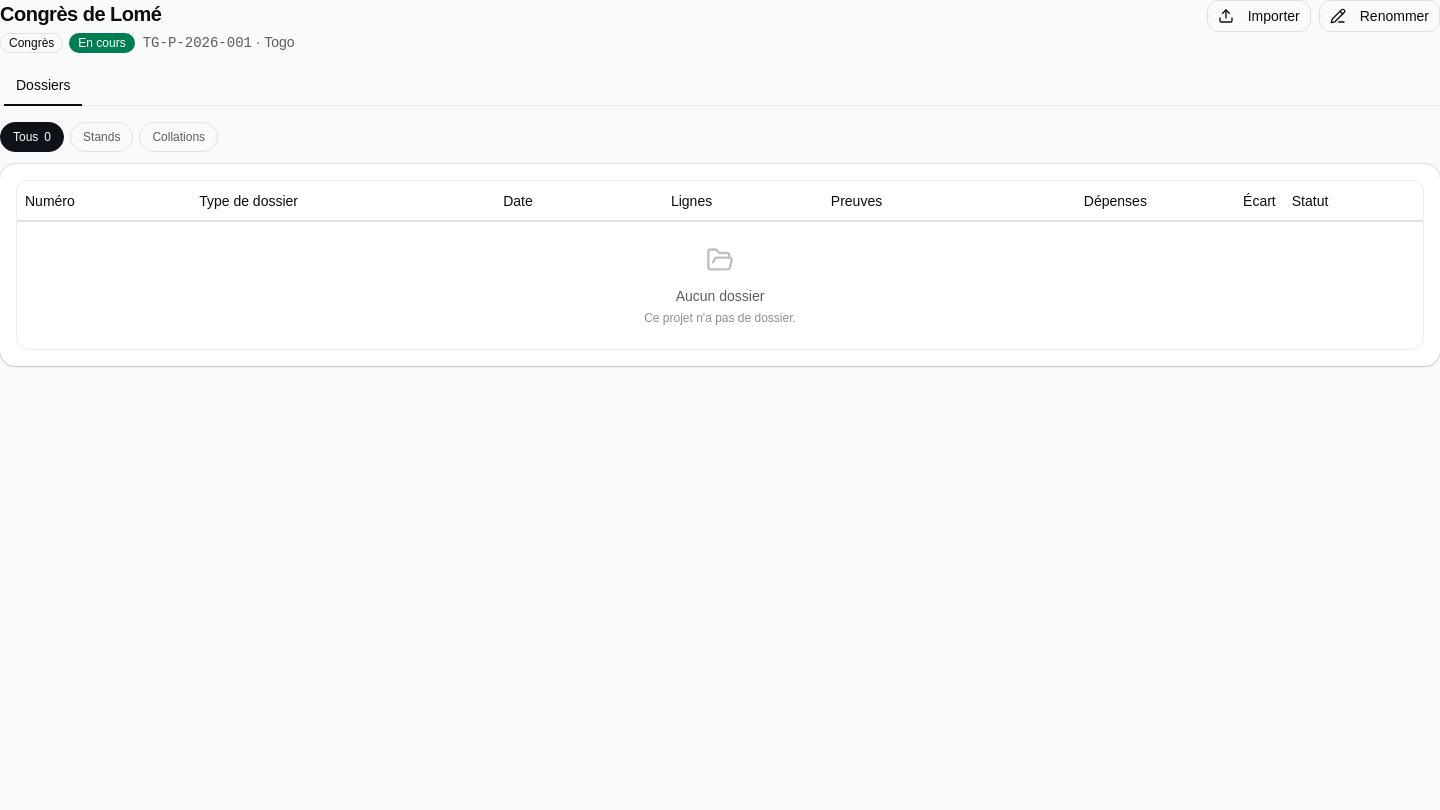
Renommer le projet, côté pays › exige un motif, puis affiche le nouveau titre
The width and height of the screenshot is (1440, 810).
Click the button "Renommer" at (1379, 16), box [1319, 0, 1439, 32]
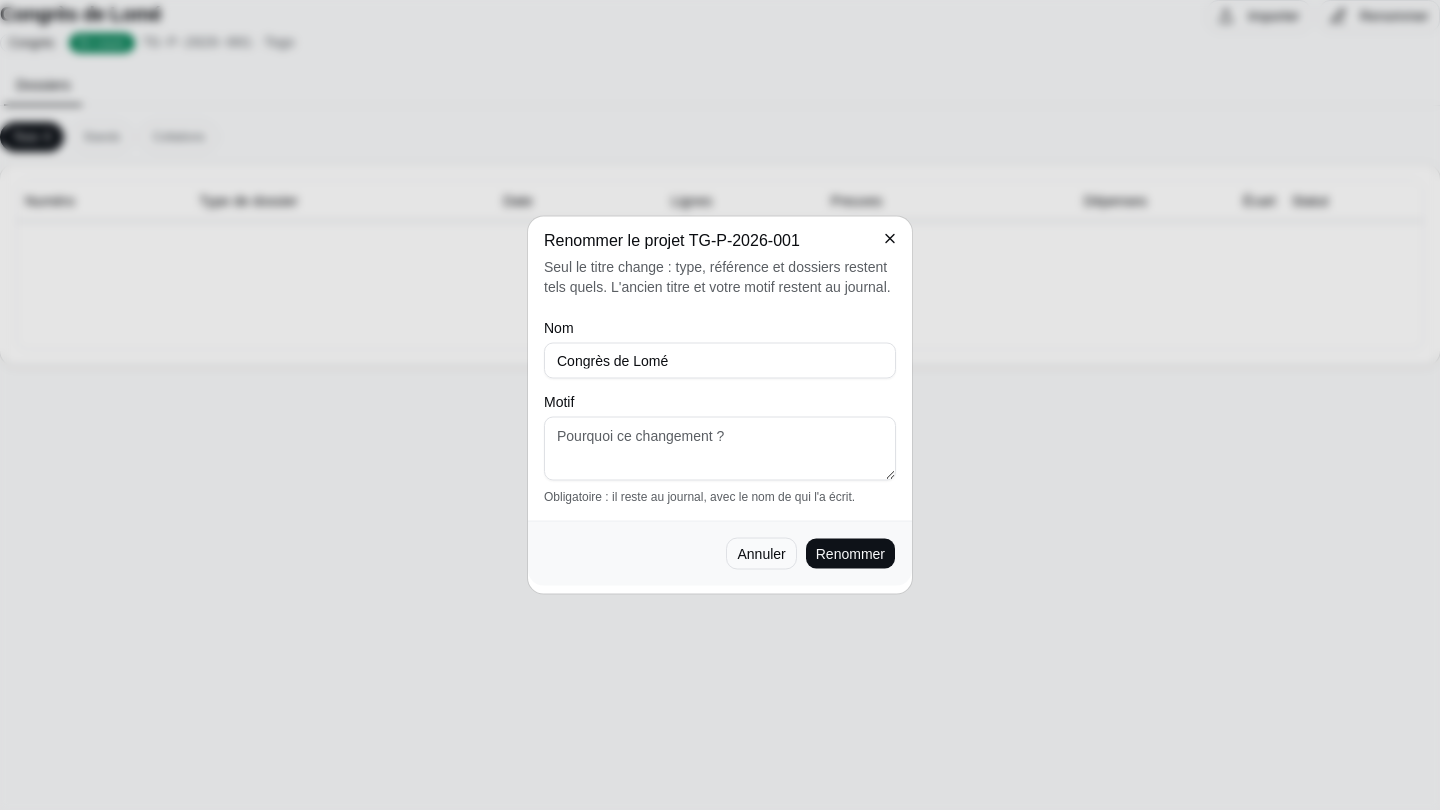
Replace the text in the field labelled "Nom" with "Congrès de Lomé 2026" at (720, 360), box [544, 342, 896, 378]
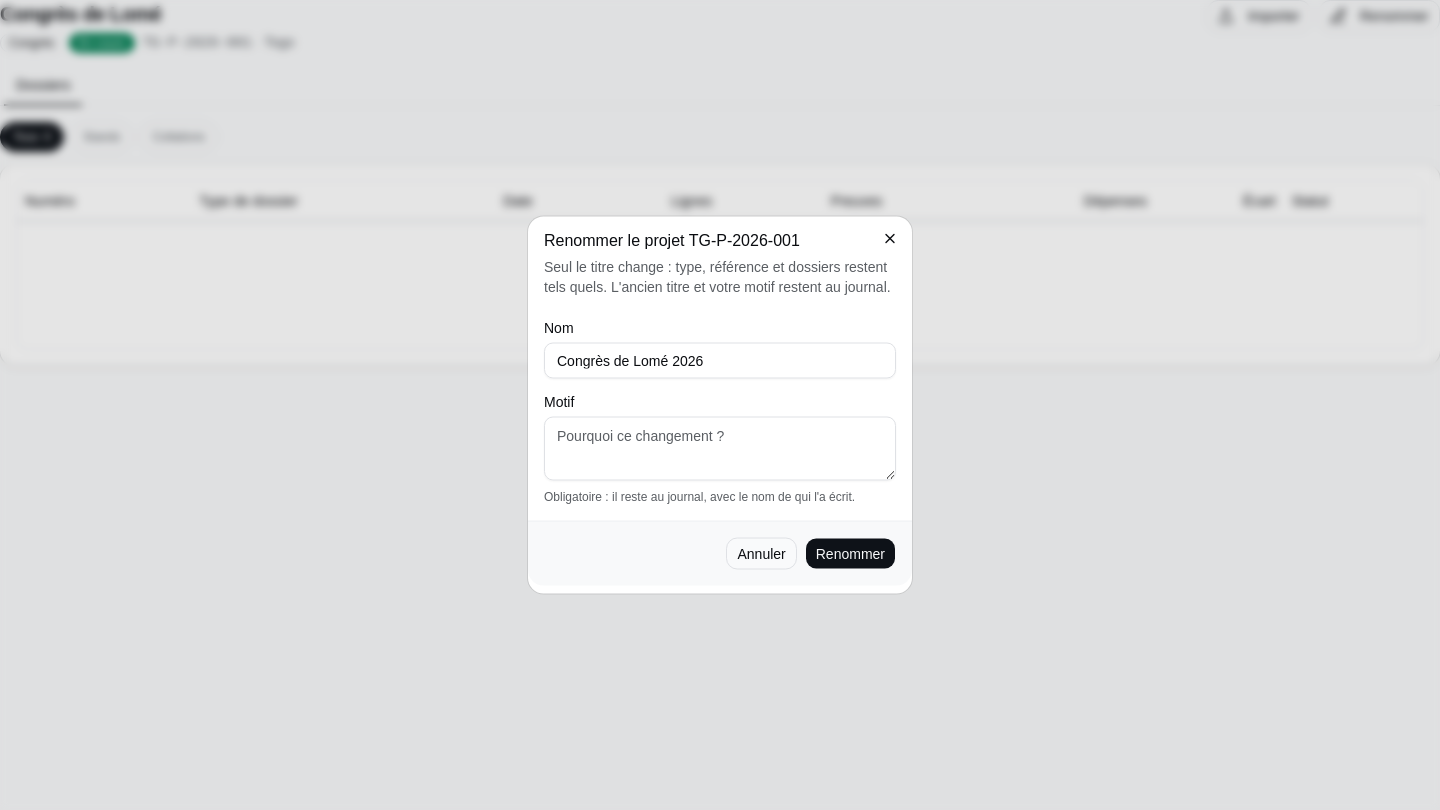
Click the button "Renommer" at (850, 554), box [805, 538, 896, 570]
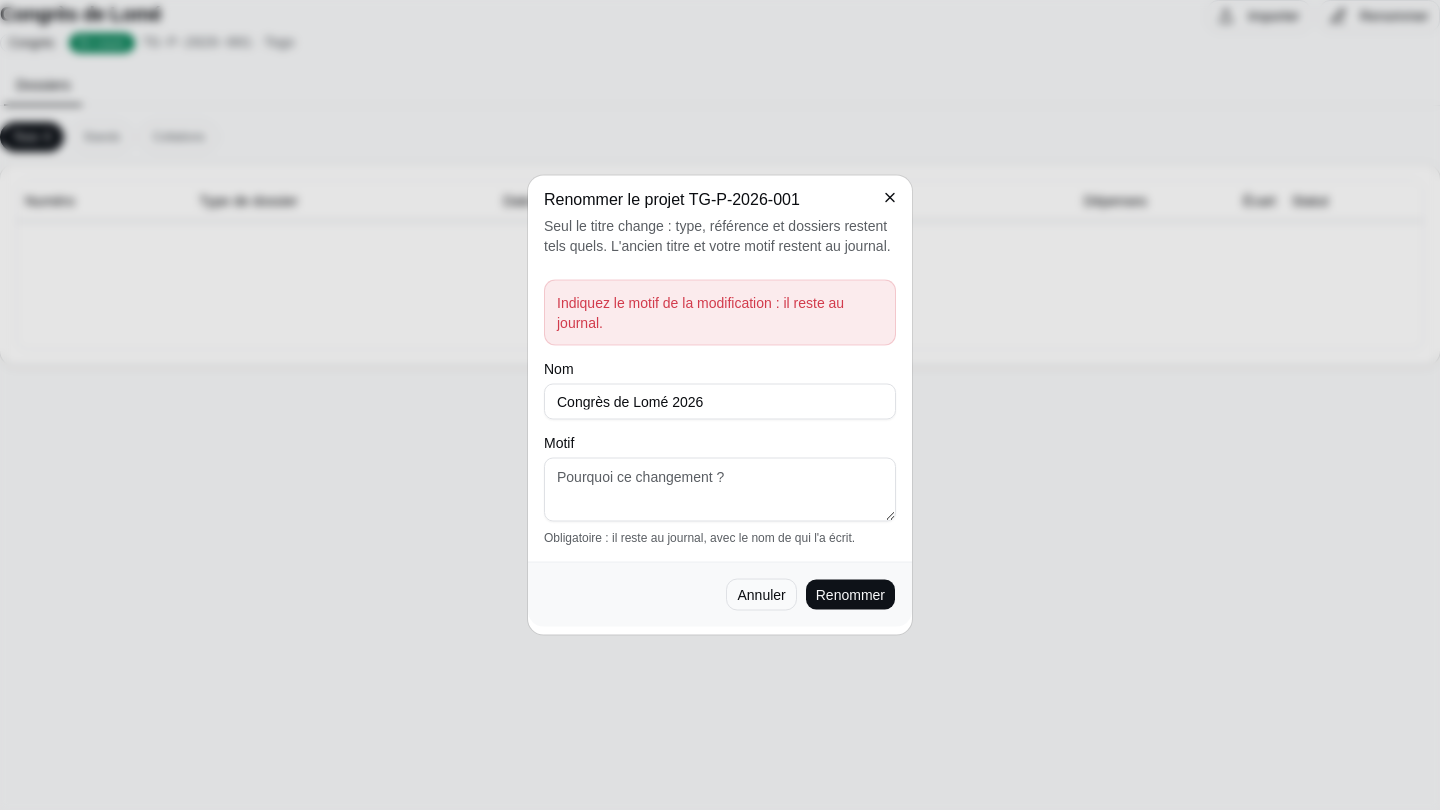
Check: the message shows "Indiquez le motif", box [557, 294, 844, 330]
Type "Année oubliée" into the text box labelled "Motif" at (720, 490), box [544, 458, 896, 522]
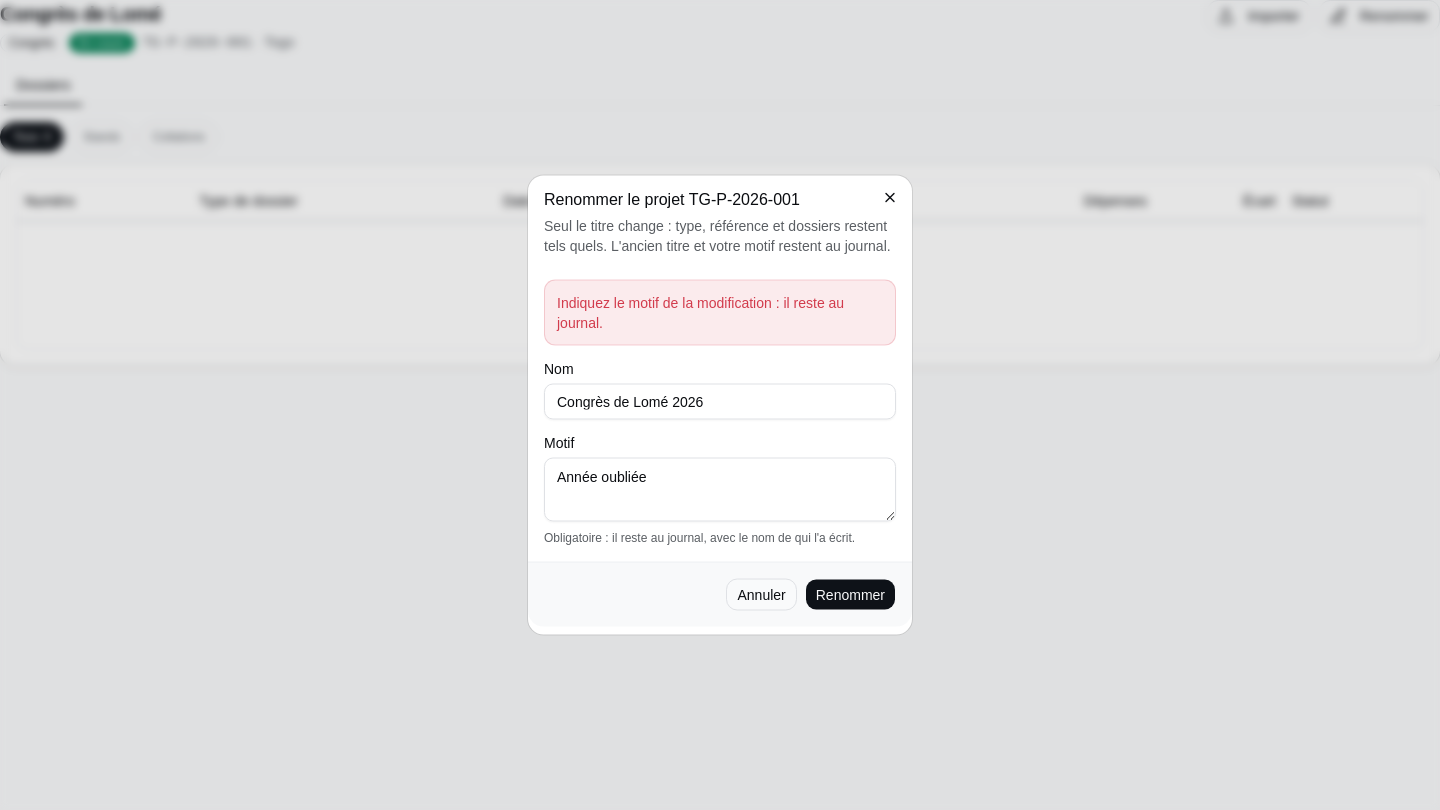
Click the button "Renommer" at (850, 594), box [805, 578, 896, 610]
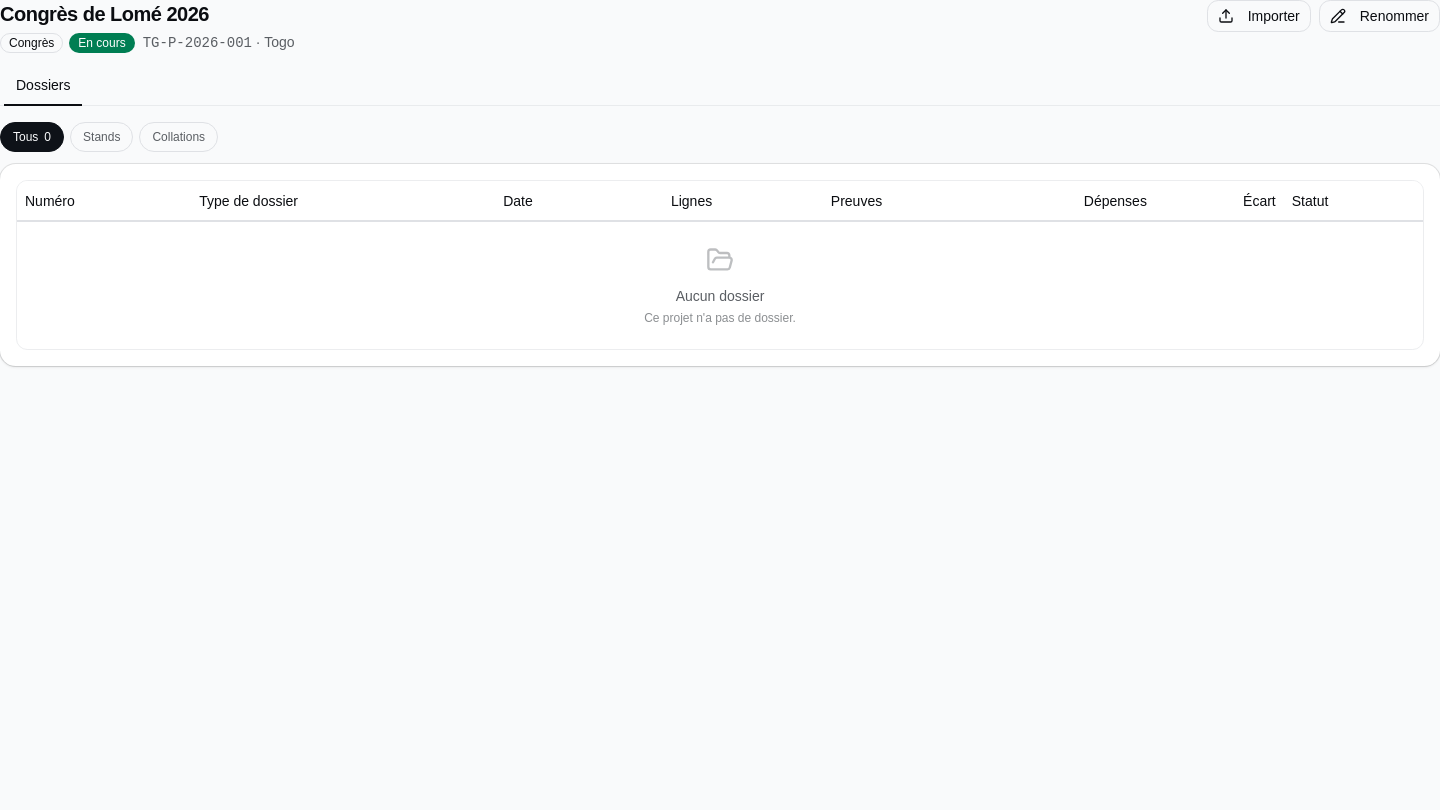
Check: the heading "Congrès de Lomé 2026" is shown, box [0, 3, 209, 25]
